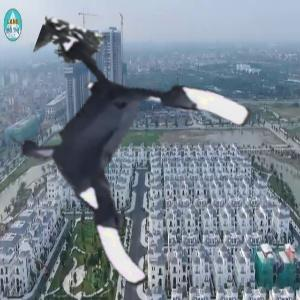drone: (2, 46, 233, 277)
